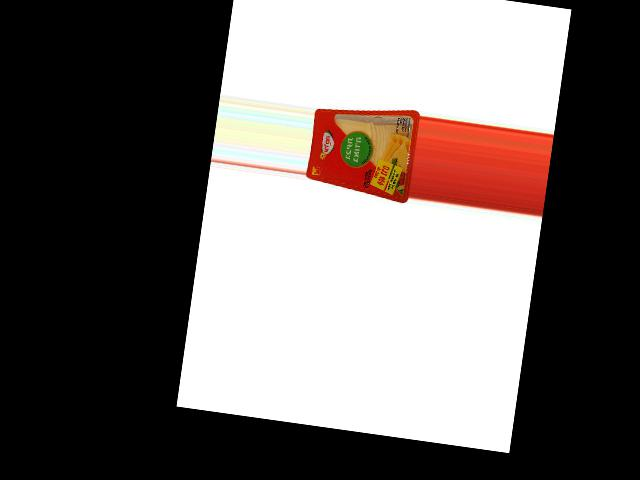cheese: (304, 97, 421, 204)
